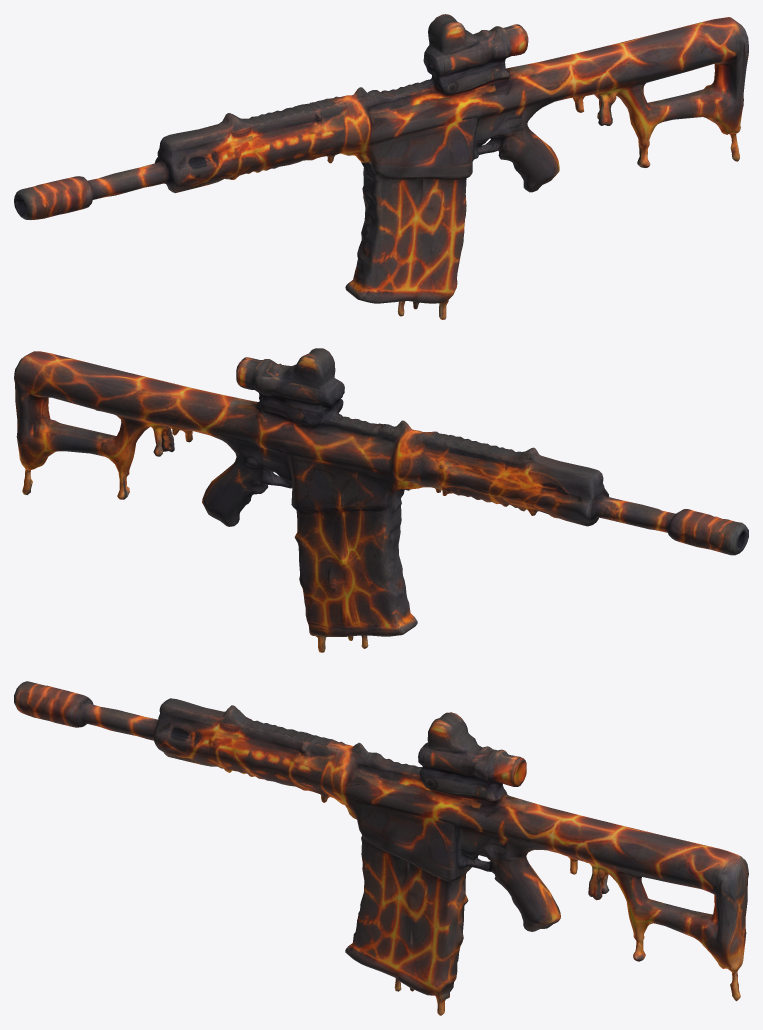
Rendered from M107_Volcano.fbx.
3 views of the same model, one above another, from view 1: azimuth 30°, elevation 25°; view 2: azimuth 150°, elevation 25°; view 3: azimuth 330°, elevation 25° (orthographic).
Visible parts, largest first — view 1: Mesh_0; view 2: Mesh_0; view 3: Mesh_0.
Part boxes in pixels (x1=…): Mesh_0: x1=14, y1=14, x2=748, y2=319; Mesh_0: x1=14, y1=348, x2=748, y2=652; Mesh_0: x1=14, y1=681, x2=748, y2=1015.
Size of the model in its own units: 200 by 79.32 by 13.27.
1 material, 1 textured.
